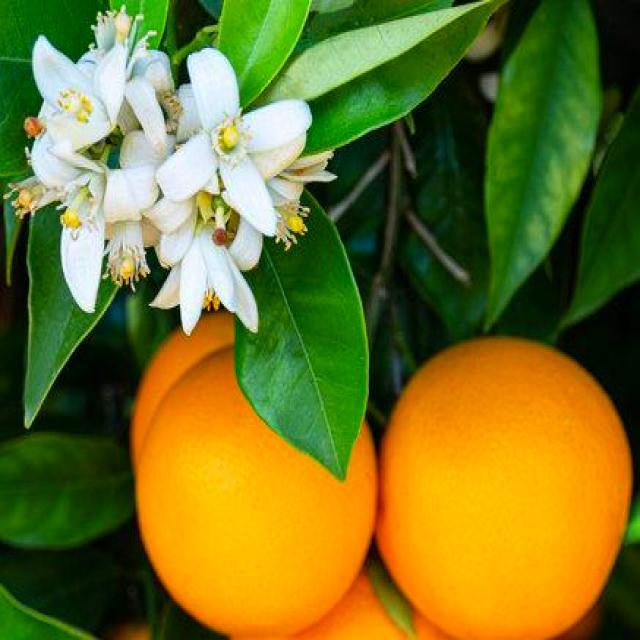Bunga: (170, 46, 306, 230), (4, 146, 118, 298), (26, 30, 129, 160), (151, 229, 268, 336), (86, 162, 160, 286)
Jeruk Sudah Matang: (382, 332, 636, 634), (133, 346, 380, 630), (138, 310, 233, 470), (297, 553, 454, 640)
